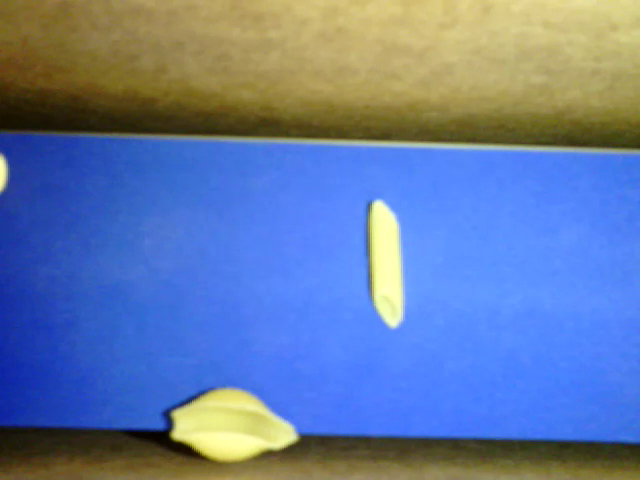penne: (368, 196, 405, 328)
shell: (169, 387, 300, 461)
